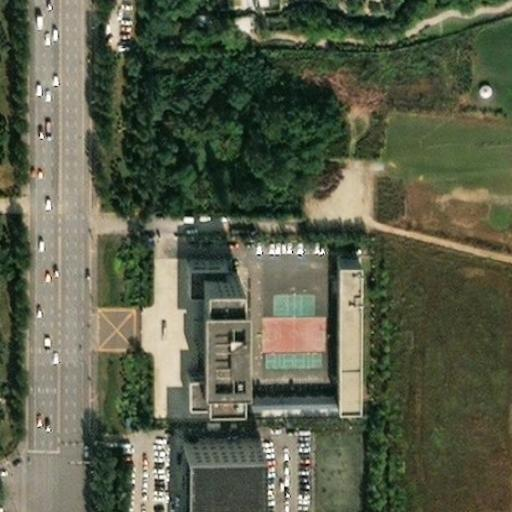building: (179, 428, 257, 512), (187, 252, 230, 391), (327, 244, 349, 388)
